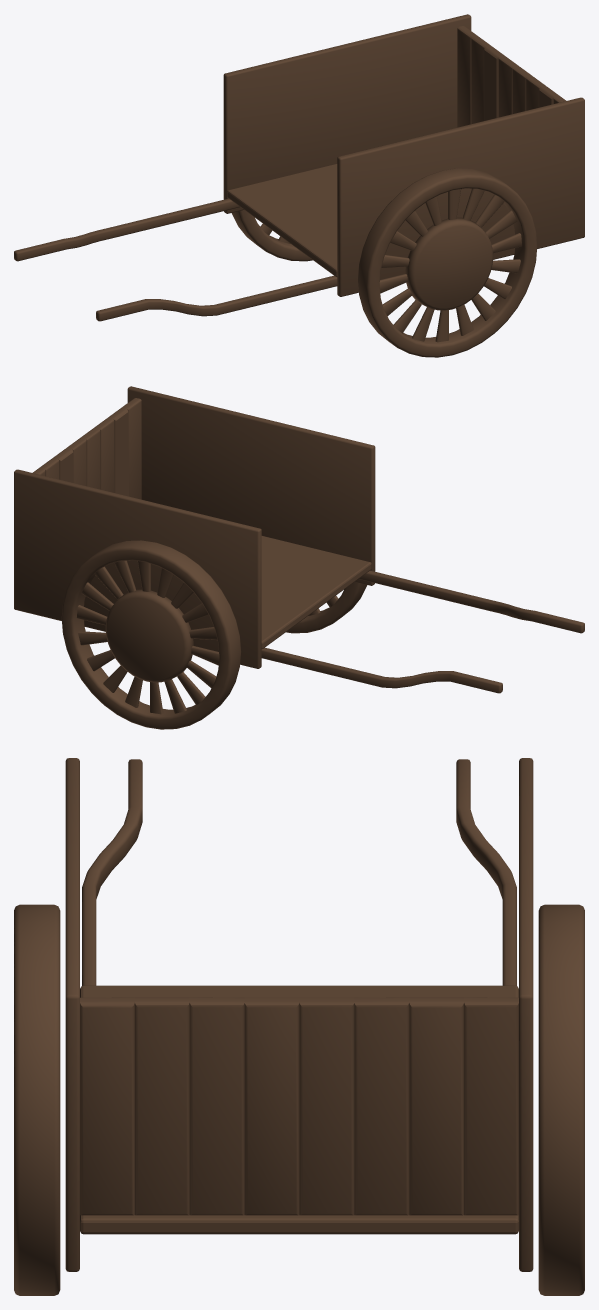
File: cartWood.fbx
3 views of the same model, one above another, from view 1: azimuth 30°, elevation 25°; view 2: azimuth 150°, elevation 25°; view 3: azimuth 270°, elevation 25° (orthographic). The views are drawn at different scales.
Parts seen in each view (by area): view 1: JIFsoore; view 2: JIFsoore; view 3: JIFsoore.
Part boxes in pixels (x1,y1,x2,y2): JIFsoore: (14,14,584,357); JIFsoore: (14,386,584,729); JIFsoore: (14,758,584,1295).
Size of the model in its own units: 0.9886 by 1.88 by 0.81.
